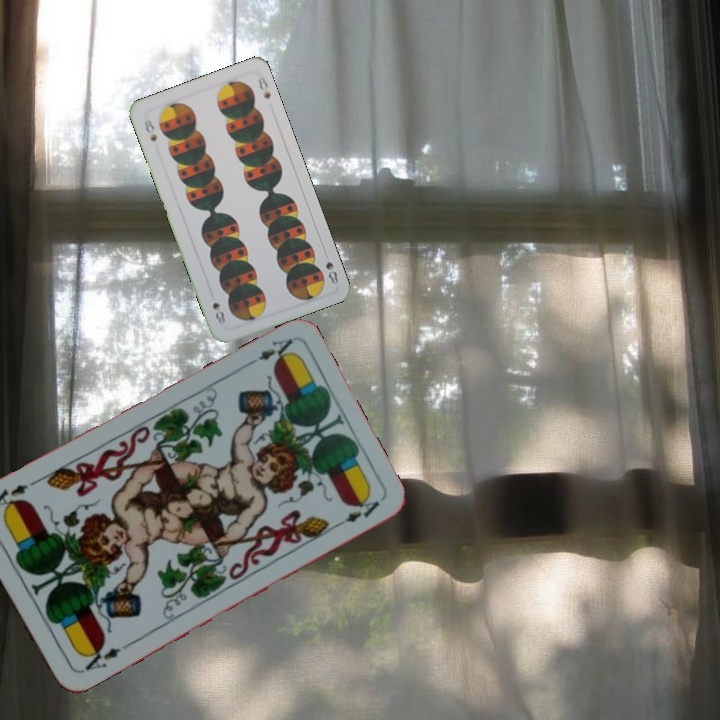EA: (240, 334, 298, 370), (77, 640, 131, 676)
S8: (320, 247, 341, 287), (140, 115, 159, 144)
